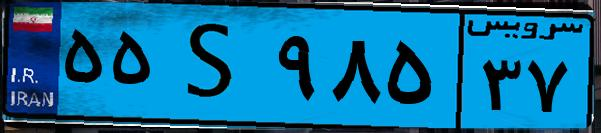3: (475, 38, 525, 113)
5: (385, 28, 445, 110), (57, 26, 110, 100), (110, 28, 158, 98)
7: (525, 38, 570, 115)
8: (330, 28, 385, 110)
9: (270, 28, 330, 110)
S: (158, 12, 270, 120)
